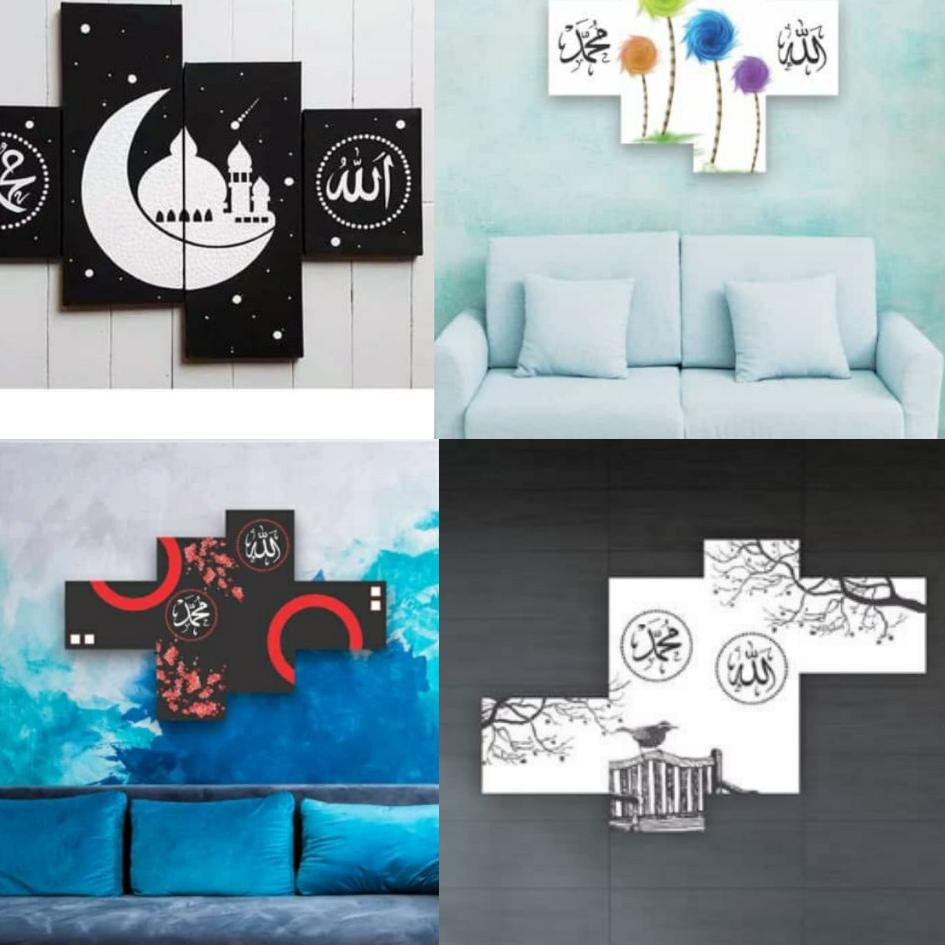sova: (439, 225, 945, 440), (1, 778, 441, 945)
